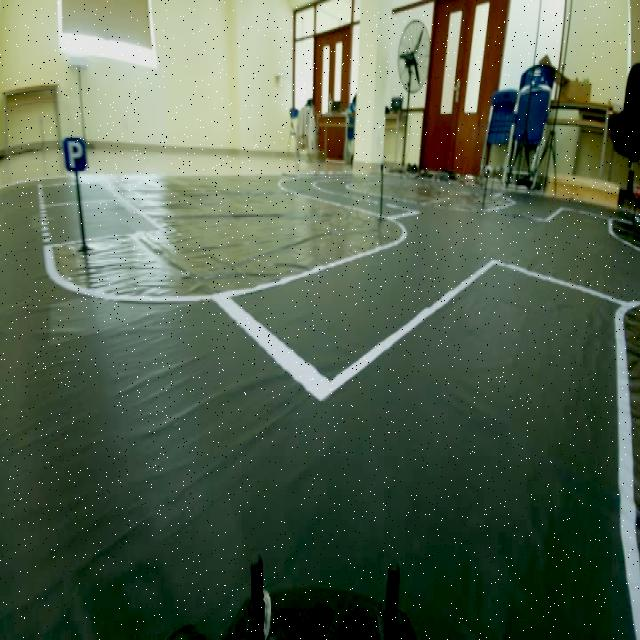parking: (63, 133, 92, 173)
